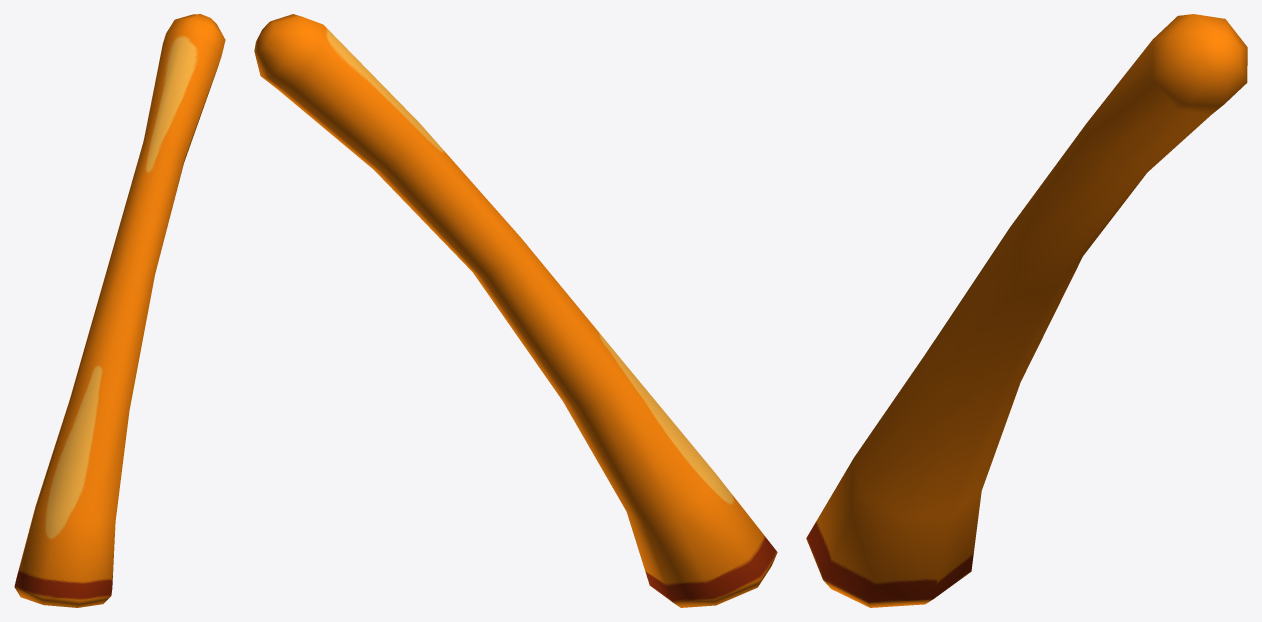
The model's file is Spider_002_LLeg_002_R.fbx.
3 renders of one model, left to right at view 1: azimuth 30°, elevation 25°; view 2: azimuth 150°, elevation 25°; view 3: azimuth 270°, elevation 25°, orthographic. The views are drawn at different scales.
Parts seen in each view (by area): view 1: LowerLeg_002_R; view 2: LowerLeg_002_R; view 3: LowerLeg_002_R.
Boxes of the visible parts, <box> form: LowerLeg_002_R: <box>14,14,225,607</box>; LowerLeg_002_R: <box>254,14,777,607</box>; LowerLeg_002_R: <box>806,14,1247,607</box>.
Bounding box in the file's own units: 30.31 × 44.9 × 24.12.
